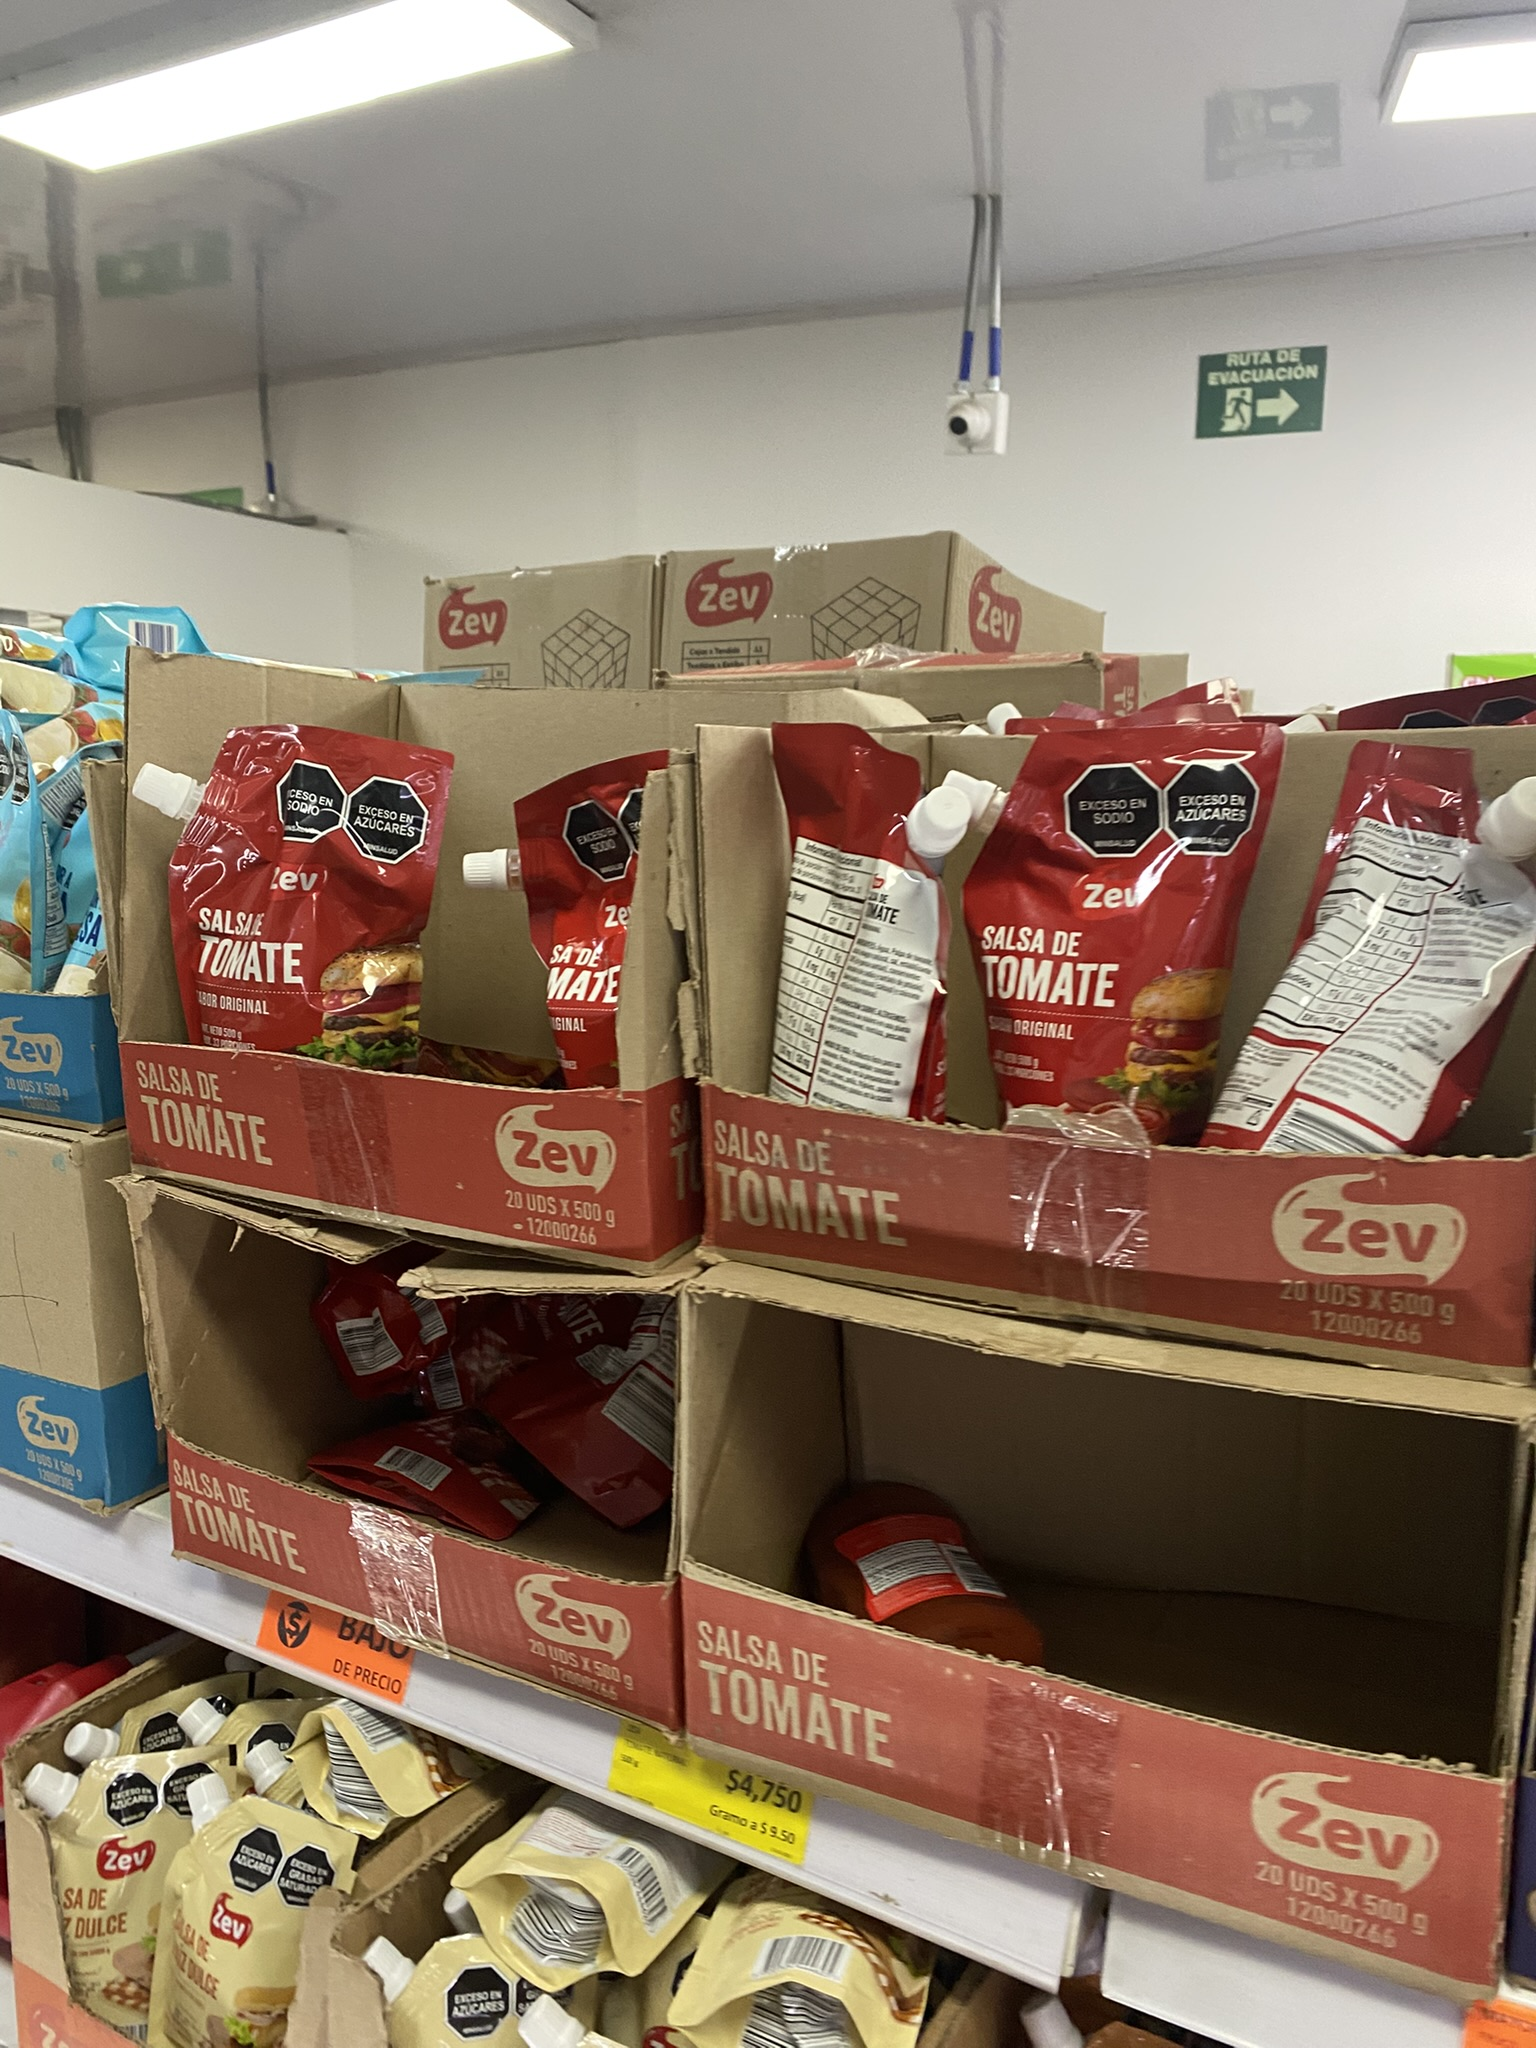Salsa de Tomate: (1197, 745, 1523, 1190), (981, 697, 1292, 1132), (129, 721, 479, 1072), (729, 721, 983, 1126), (466, 734, 689, 1079)
